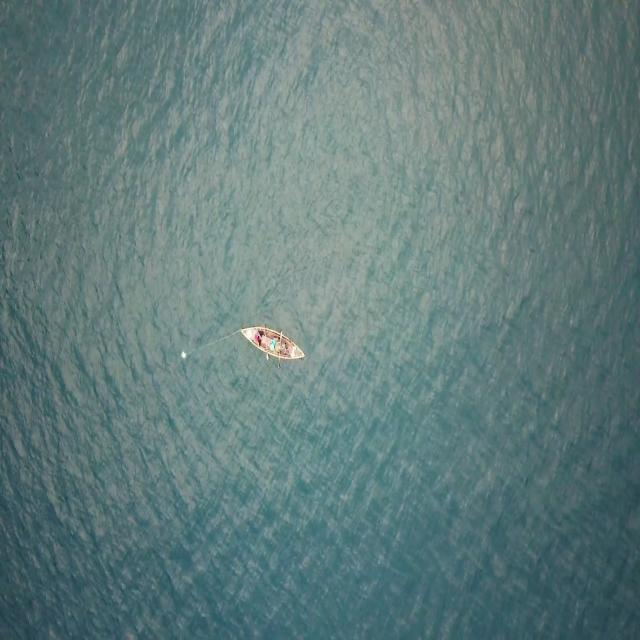ship: (239, 314, 304, 372)
